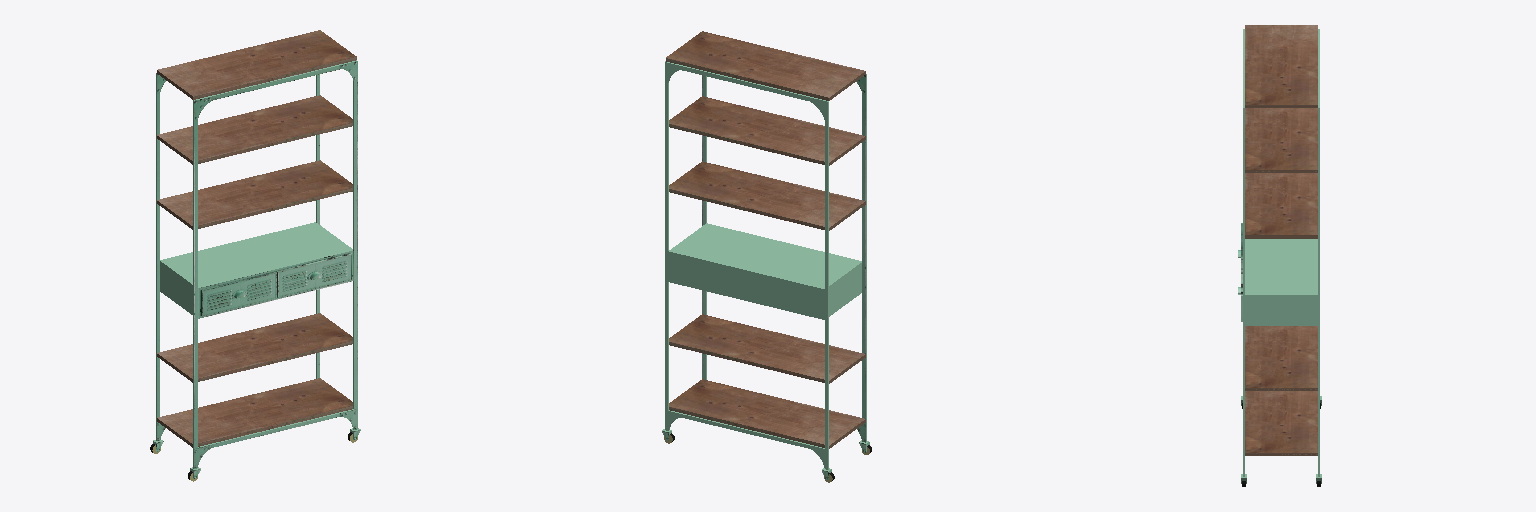
The picture shows the model from 3 angles: view 1: azimuth 30°, elevation 25°; view 2: azimuth 150°, elevation 25°; view 3: azimuth 270°, elevation 25°; orthographic projection.
Visible parts, largest first — view 1: Mesh2 Group3 Group1 Component_18_1 Model, Mesh3 planche1 Group1 Component_18_1 Model, Mesh12 Group1 Component_18_1 Model, Mesh8 planche4 Group1 Component_18_1 Model, Mesh4 planche2 Group1 Component_18_1 Model, Mesh6 planche3 Group1 Component_18_1 Model, Mesh10 planche5 Group1 Component_18_1 Model, Mesh1 Group2 Group1 Component_18_1 Model; view 2: Mesh1 Group2 Group1 Component_18_1 Model, Mesh3 planche1 Group1 Component_18_1 Model, Mesh12 Group1 Component_18_1 Model, Mesh6 planche3 Group1 Component_18_1 Model, Mesh8 planche4 Group1 Component_18_1 Model, Mesh4 planche2 Group1 Component_18_1 Model, Mesh10 planche5 Group1 Component_18_1 Model, Mesh2 Group3 Group1 Component_18_1 Model; view 3: Mesh12 Group1 Component_18_1 Model, Mesh3 planche1 Group1 Component_18_1 Model, Mesh10 planche5 Group1 Component_18_1 Model, Mesh4 planche2 Group1 Component_18_1 Model, Mesh6 planche3 Group1 Component_18_1 Model, Mesh8 planche4 Group1 Component_18_1 Model, Mesh2 Group3 Group1 Component_18_1 Model, Mesh1 Group2 Group1 Component_18_1 Model.
Part boxes in pixels (left/top/right/bottom): Mesh2 Group3 Group1 Component_18_1 Model: left=193, top=60, right=357, bottom=468; Mesh3 planche1 Group1 Component_18_1 Model: left=157, top=30, right=356, bottom=99; Mesh12 Group1 Component_18_1 Model: left=160, top=223, right=352, bottom=314; Mesh8 planche4 Group1 Component_18_1 Model: left=157, top=95, right=352, bottom=164; Mesh4 planche2 Group1 Component_18_1 Model: left=157, top=313, right=352, bottom=382; Mesh6 planche3 Group1 Component_18_1 Model: left=157, top=378, right=352, bottom=447; Mesh10 planche5 Group1 Component_18_1 Model: left=157, top=160, right=352, bottom=229; Mesh1 Group2 Group1 Component_18_1 Model: left=156, top=73, right=319, bottom=440; Mesh1 Group2 Group1 Component_18_1 Model: left=665, top=61, right=828, bottom=469; Mesh3 planche1 Group1 Component_18_1 Model: left=666, top=31, right=865, bottom=100; Mesh12 Group1 Component_18_1 Model: left=669, top=224, right=861, bottom=316; Mesh6 planche3 Group1 Component_18_1 Model: left=669, top=379, right=865, bottom=448; Mesh8 planche4 Group1 Component_18_1 Model: left=669, top=96, right=865, bottom=165; Mesh4 planche2 Group1 Component_18_1 Model: left=669, top=314, right=865, bottom=383; Mesh10 planche5 Group1 Component_18_1 Model: left=669, top=161, right=865, bottom=230; Mesh2 Group3 Group1 Component_18_1 Model: left=702, top=74, right=866, bottom=442; Mesh12 Group1 Component_18_1 Model: left=1245, top=239, right=1317, bottom=325; Mesh3 planche1 Group1 Component_18_1 Model: left=1245, top=25, right=1317, bottom=107; Mesh10 planche5 Group1 Component_18_1 Model: left=1245, top=173, right=1317, bottom=238; Mesh4 planche2 Group1 Component_18_1 Model: left=1245, top=326, right=1317, bottom=390; Mesh6 planche3 Group1 Component_18_1 Model: left=1245, top=391, right=1317, bottom=455; Mesh8 planche4 Group1 Component_18_1 Model: left=1245, top=108, right=1317, bottom=172; Mesh2 Group3 Group1 Component_18_1 Model: left=1238, top=29, right=1244, bottom=476; Mesh1 Group2 Group1 Component_18_1 Model: left=1318, top=29, right=1319, bottom=476.
Bounding box in the file's own units: 16.41 × 35.29 × 7.08.
7 materials, 4 textured.